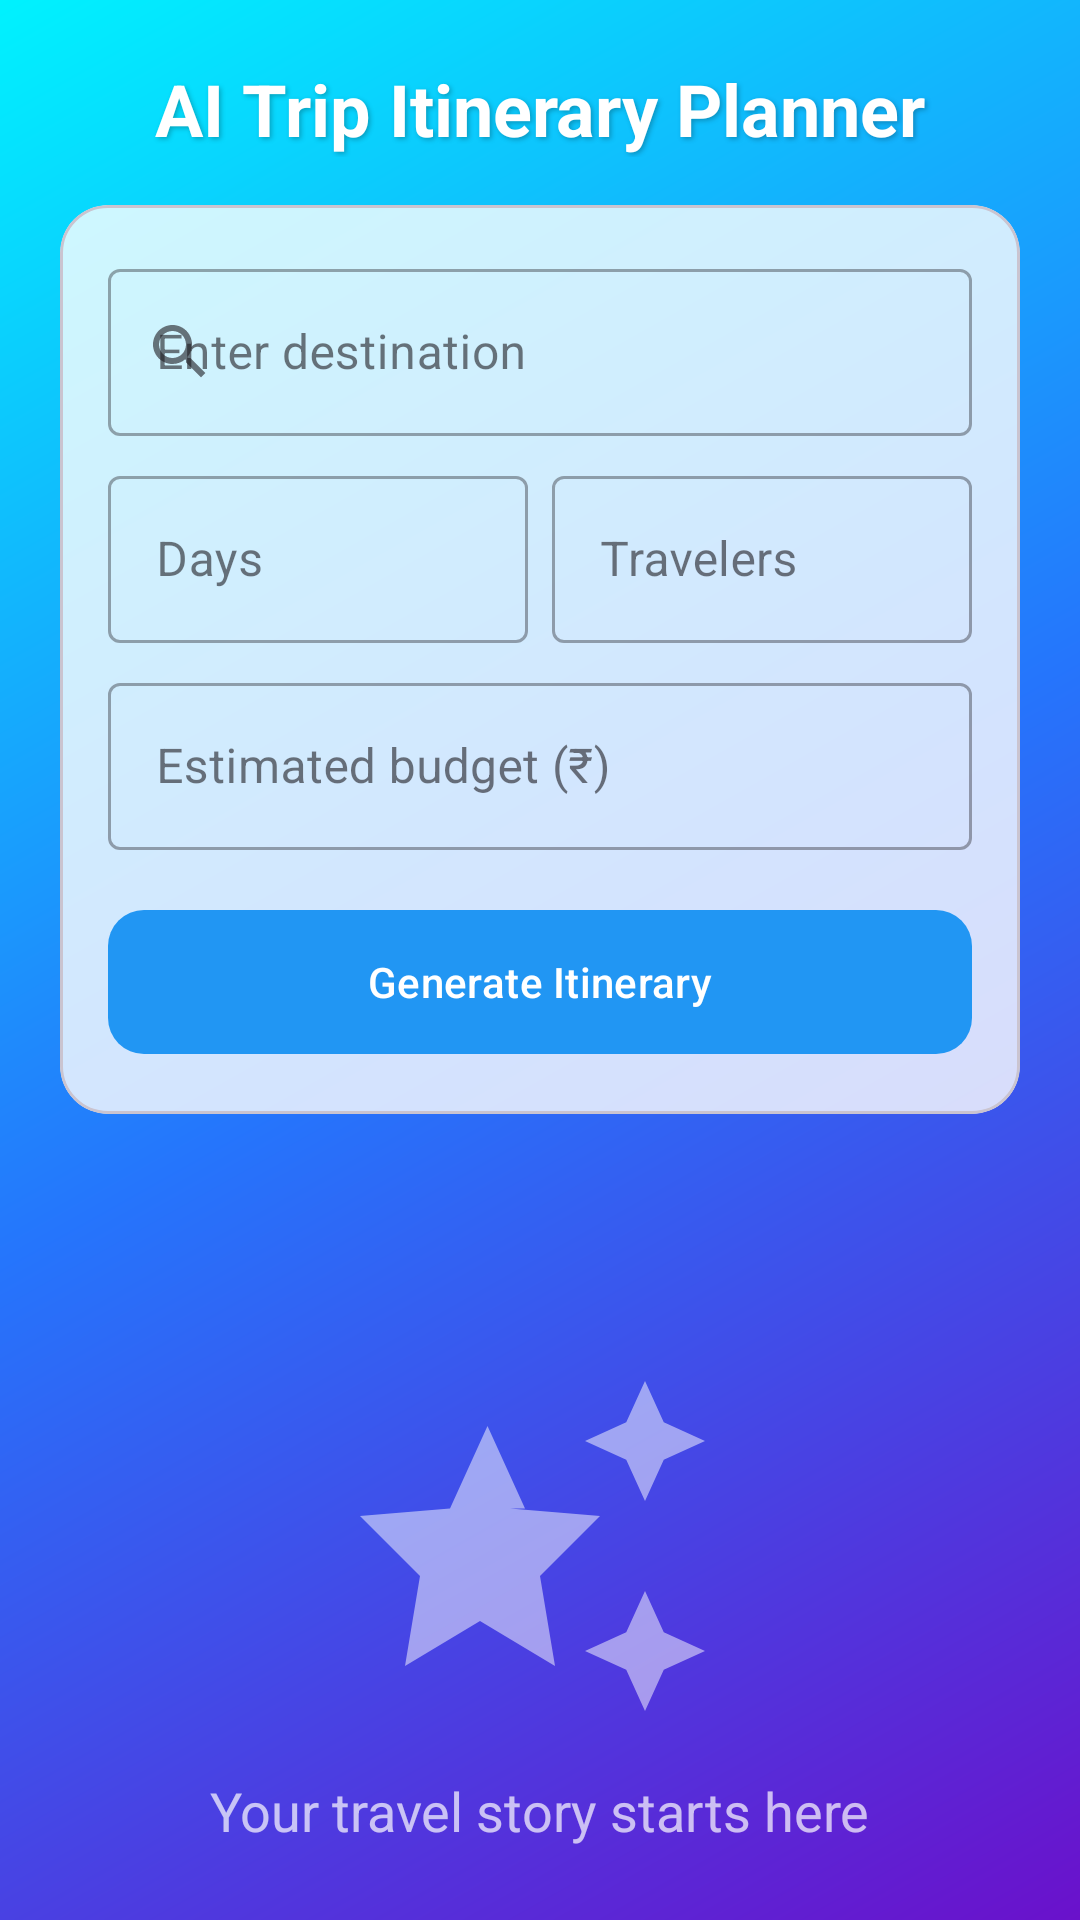

Named icons in this screenshot (1080*1920) and their bounding boxes, (x1,y1,x2,y2):
auto awesome: (360,1366,720,1726)
